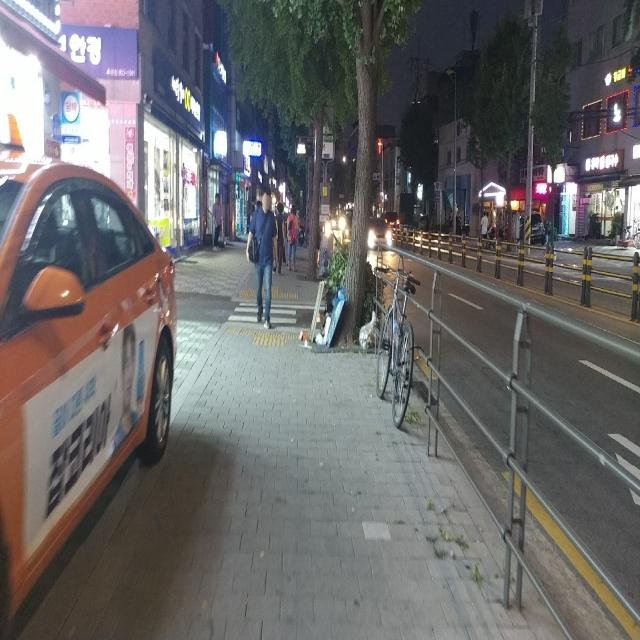횡단보도: (228, 306, 297, 324)
